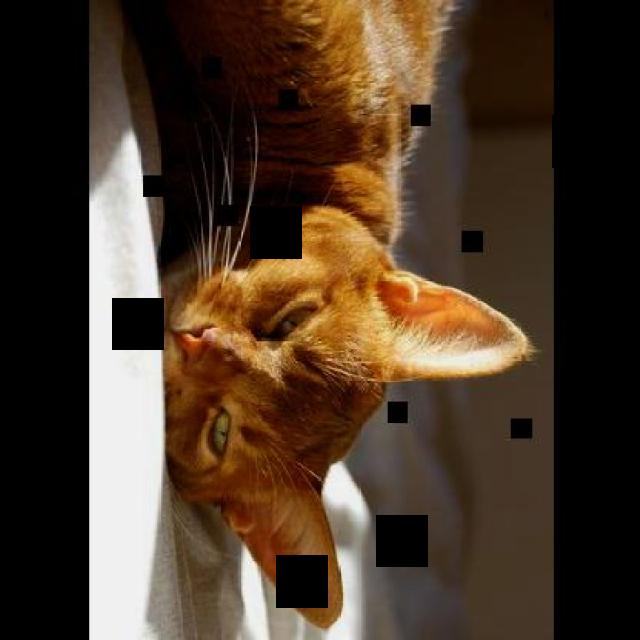unauthorized: (101, 0, 538, 629)
